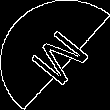M_SE: (18, 21, 92, 89)
